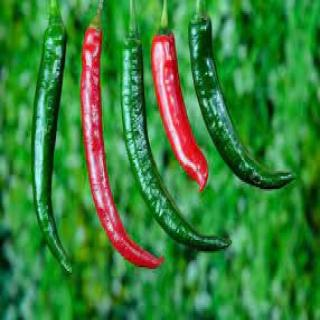Cabai Hijau: (187, 17, 303, 193), (30, 23, 79, 280)
Cabai Merah: (81, 26, 168, 273), (151, 30, 213, 195)
